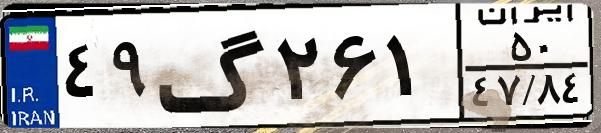0: (537, 27, 568, 80)
1: (385, 28, 445, 110)
2: (270, 28, 330, 110)
4: (57, 26, 110, 100), (560, 70, 590, 125), (470, 70, 495, 125)
5: (508, 27, 537, 80)
6: (330, 28, 385, 110)
7: (495, 70, 520, 125)
8: (535, 70, 560, 125)
9: (110, 28, 156, 98)
گ: (156, 12, 270, 120)
